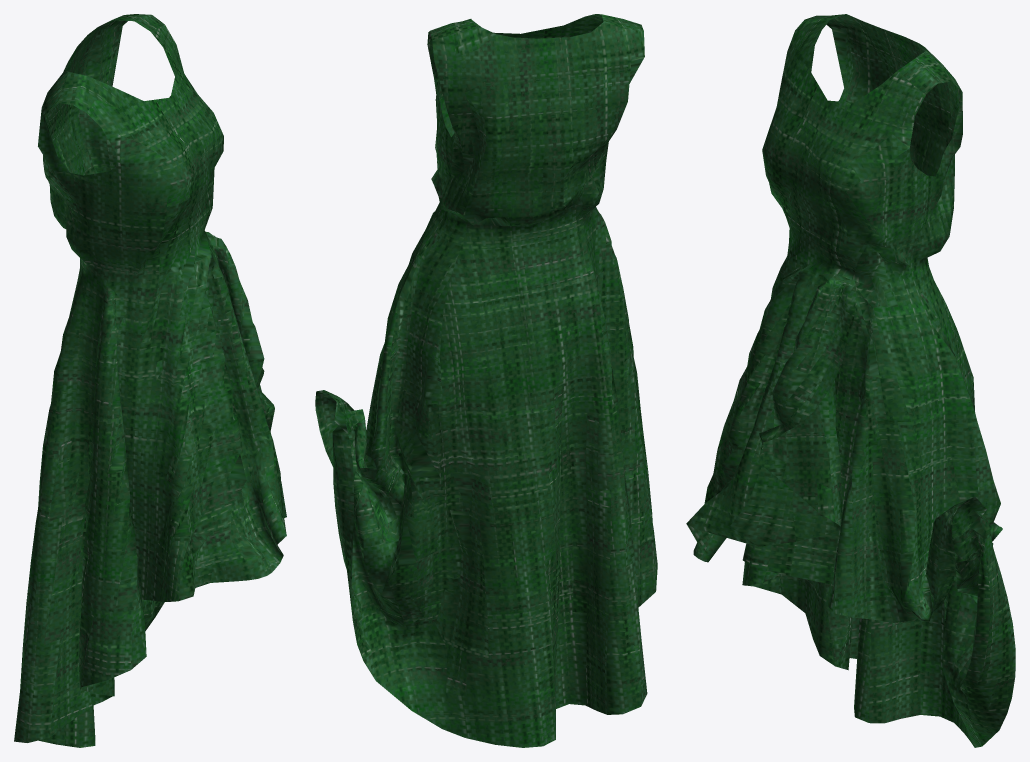
The model's file is yifu_03.fbx.
3 views of the same model, side by side, from view 1: azimuth 30°, elevation 25°; view 2: azimuth 150°, elevation 25°; view 3: azimuth 270°, elevation 25° (orthographic).
Visible parts, largest first — view 1: yifu_03; view 2: yifu_03; view 3: yifu_03.
Part boxes in pixels (box(x1,y1,x2,y2)): yifu_03: box(14, 14, 286, 747); yifu_03: box(315, 14, 657, 747); yifu_03: box(686, 14, 1015, 747).
Size of the model in its own units: 51.52 by 121 by 51.91.
